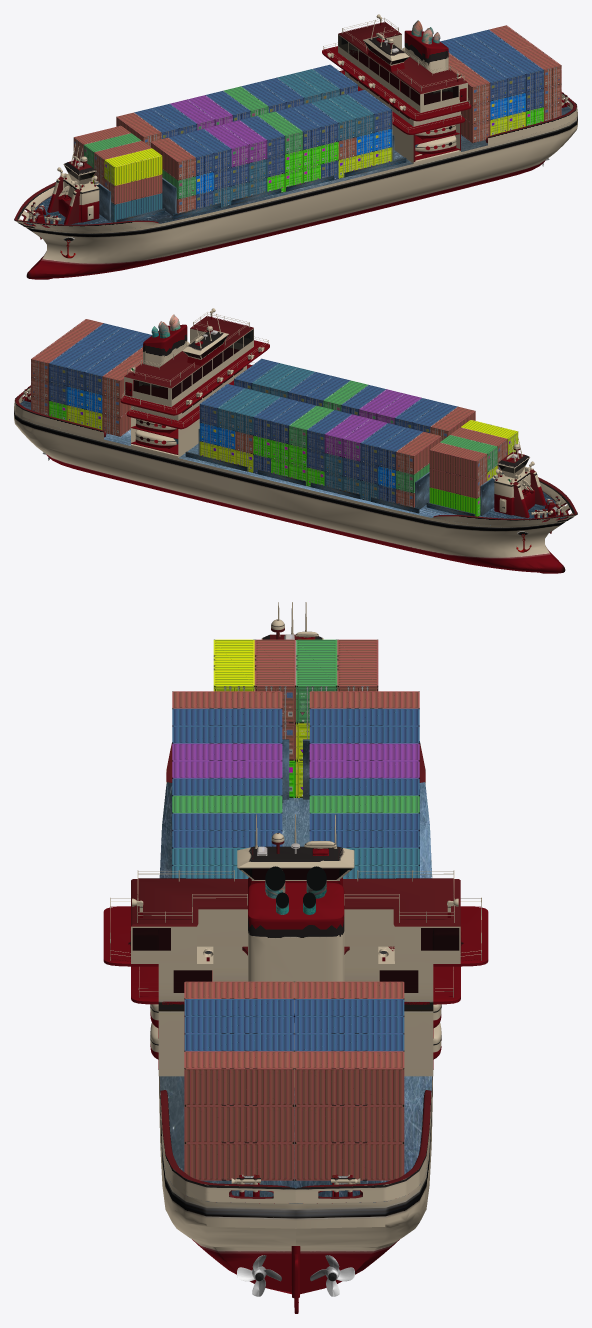
The model's file is cargo.glb.
The picture shows the model from 3 angles, top to bottom: view 1: azimuth 30°, elevation 25°; view 2: azimuth 150°, elevation 25°; view 3: azimuth 270°, elevation 25°; orthographic projection. The views are drawn at different scales.
Visible parts, largest first — view 1: Object_19, Object_23, Object_13, Object_10, Object_12, Object_9, Object_16, Object_40, Object_11, Object_8, Object_37, Object_14 (+2 smaller); view 2: Object_19, Object_23, Object_13, Object_10, Object_12, Object_8, Object_40, Object_16, Object_11, Object_9, Object_37, Object_14 (+2 smaller); view 3: Object_23, Object_10, Object_13, Object_19, Object_40, Object_16, Object_11, Object_12, Object_37, Object_9, Object_5, Object_25.
Boxes of the visible parts, x1,y1,x2,y2 form: Object_19: [25, 113, 577, 279]; Object_23: [14, 14, 577, 231]; Object_13: [134, 29, 543, 208]; Object_10: [73, 25, 561, 213]; Object_12: [111, 69, 374, 222]; Object_9: [93, 111, 525, 185]; Object_16: [170, 95, 267, 167]; Object_40: [26, 103, 577, 225]; Object_11: [84, 86, 302, 199]; Object_8: [267, 107, 543, 192]; Object_37: [64, 35, 458, 180]; Object_14: [196, 93, 525, 194]; Object_19: [14, 407, 566, 573]; Object_23: [14, 308, 577, 525]; Object_13: [49, 323, 457, 503]; Object_10: [31, 319, 518, 507]; Object_12: [217, 363, 378, 501]; Object_8: [49, 401, 480, 516]; Object_40: [20, 397, 565, 525]; Object_16: [324, 389, 421, 461]; Object_11: [289, 380, 497, 493]; Object_9: [66, 405, 518, 480]; Object_37: [133, 329, 528, 473]; Object_14: [66, 386, 395, 488]; Object_23: [103, 602, 488, 1313]; Object_10: [172, 639, 419, 1180]; Object_13: [172, 708, 419, 1051]; Object_19: [150, 860, 441, 1294]; Object_40: [159, 739, 432, 1203]; Object_16: [172, 743, 419, 778]; Object_11: [172, 639, 419, 813]; Object_12: [172, 848, 419, 878]; Object_37: [132, 868, 459, 1040]; Object_9: [213, 639, 309, 797]; Object_5: [237, 1255, 354, 1296]; Object_25: [128, 866, 463, 945].
Bounding box in the file's own units: 1 × 0.3 × 0.3065.
Materials: 26 (25 with a texture image).
